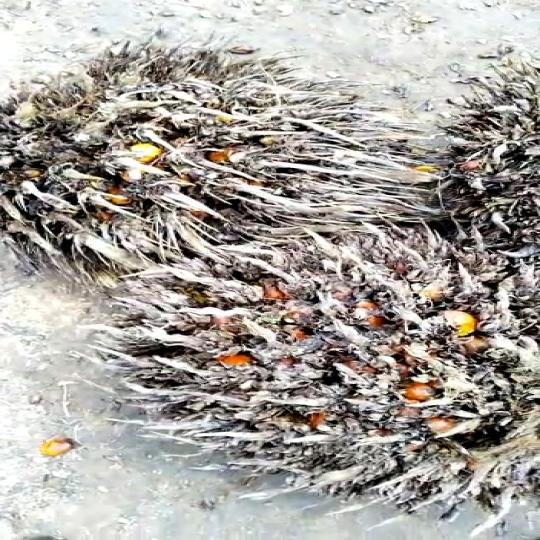terlalu masak: (80, 235, 540, 515), (0, 45, 426, 287)
